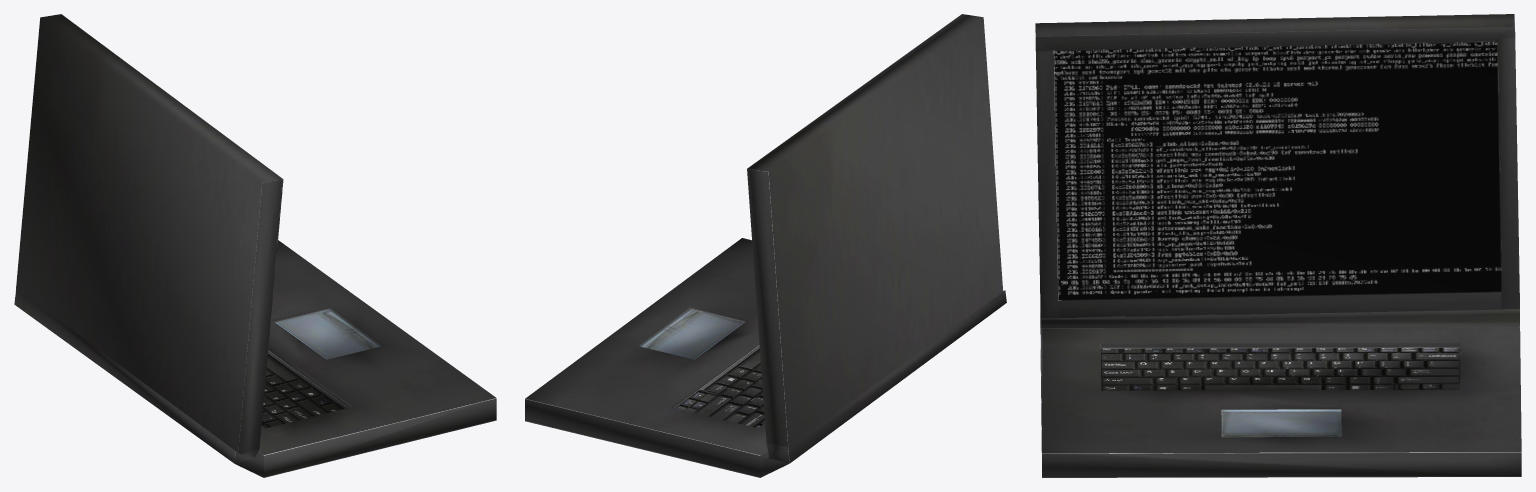
File: laptop_black.glb
The picture shows the model from 3 angles, left to right: view 1: azimuth 30°, elevation 25°; view 2: azimuth 150°, elevation 25°; view 3: azimuth 270°, elevation 25°; orthographic projection. The views are drawn at different scales.
Visible parts, largest first — view 1: Object_2.002; view 2: Object_2.002; view 3: Object_2.002.
Boxes of the visible parts, bbox=[...] form: Object_2.002: bbox=[14, 14, 496, 477]; Object_2.002: bbox=[525, 14, 1006, 477]; Object_2.002: bbox=[1035, 14, 1521, 477].
Size of the model in its own units: 0.3142 by 0.345 by 0.4546.
Materials: 1 (1 with a texture image).
